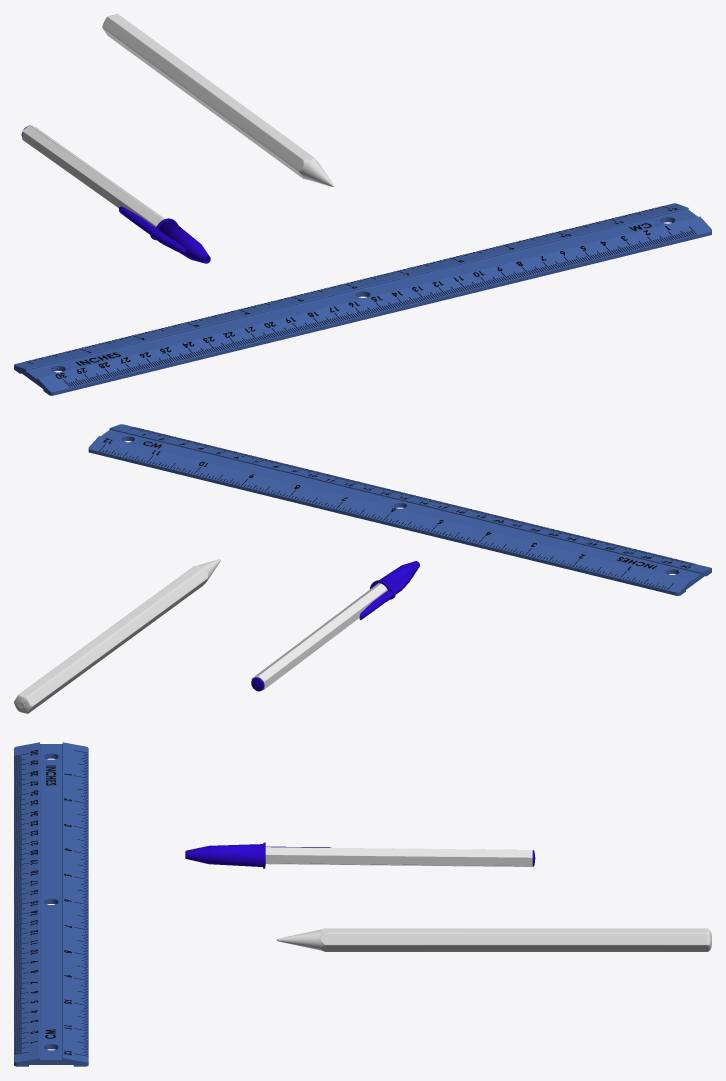
File: Stationary 1.fbx
The picture shows the model from 3 angles, top to bottom: view 1: azimuth 30°, elevation 25°; view 2: azimuth 150°, elevation 25°; view 3: azimuth 270°, elevation 25°; orthographic projection. The views are drawn at different scales.
Parts seen in each view (by area): view 1: 12in Ruler, Pencil, Pen; view 2: 12in Ruler, Pencil, Pen; view 3: 12in Ruler, Pencil, Pen.
Boxes of the visible parts, box(x1,y1,x2,y2) form: 12in Ruler: box(14, 203, 711, 395); Pencil: box(102, 14, 333, 186); Pen: box(21, 125, 210, 263); 12in Ruler: box(88, 424, 711, 595); Pencil: box(14, 559, 220, 713); Pen: box(251, 561, 419, 691); 12in Ruler: box(14, 742, 88, 1066); Pencil: box(276, 928, 711, 951); Pen: box(185, 842, 535, 868).
Size of the model in its own units: 31.75 by 1.1 by 29.65.
